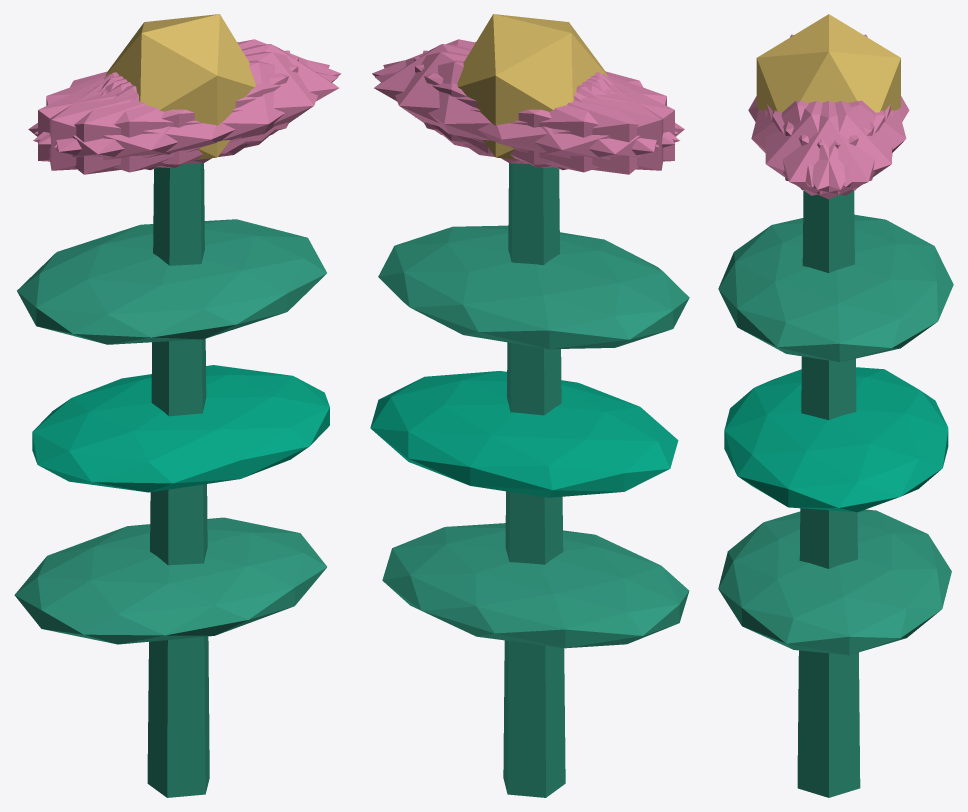
Rendered from tristellateia-australasiae.glb.
The picture shows the model from 3 angles, left to right: view 1: azimuth 30°, elevation 25°; view 2: azimuth 150°, elevation 25°; view 3: azimuth 270°, elevation 25°; orthographic projection.
Parts seen in each view (by area): view 1: leaf2, leaf0, leaf1, stem, center, petal1, petal6, petal2, petal5, petal7, petal0, petal4 (+2 smaller); view 2: leaf2, leaf1, leaf0, stem, center, petal8, petal3, petal7, petal4, petal2, petal0, petal5 (+2 smaller); view 3: leaf2, leaf1, leaf0, stem, center, petal0, petal5, petal4, petal1, petal8.
Boxes of the visible parts, left/top/right/bottom form: leaf2: left=17, top=219, right=326, bottom=344; leaf0: left=14, top=517, right=326, bottom=644; leaf1: left=32, top=365, right=329, bottom=492; stem: left=147, top=163, right=209, bottom=797; center: left=105, top=14, right=255, bottom=159; petal1: left=33, top=60, right=338, bottom=172; petal6: left=28, top=74, right=249, bottom=174; petal2: left=49, top=50, right=289, bottom=170; petal5: left=54, top=51, right=329, bottom=164; petal7: left=38, top=57, right=298, bottom=168; petal0: left=105, top=44, right=338, bottom=153; petal4: left=34, top=39, right=341, bottom=144; leaf2: left=378, top=225, right=689, bottom=349; leaf1: left=370, top=371, right=678, bottom=497; leaf0: left=382, top=523, right=689, bottom=648; stem: left=503, top=163, right=565, bottom=797; center: left=457, top=14, right=607, bottom=159; petal8: left=375, top=60, right=679, bottom=172; petal3: left=463, top=74, right=684, bottom=174; petal7: left=423, top=50, right=663, bottom=170; petal4: left=383, top=51, right=659, bottom=164; petal2: left=414, top=57, right=674, bottom=168; petal0: left=374, top=44, right=607, bottom=153; petal5: left=372, top=39, right=678, bottom=144; leaf2: left=718, top=215, right=953, bottom=362; leaf1: left=724, top=367, right=948, bottom=512; leaf0: left=718, top=509, right=951, bottom=655; stem: left=797, top=190, right=860, bottom=797; center: left=756, top=14, right=900, bottom=112; petal0: left=767, top=101, right=890, bottom=199; petal5: left=765, top=101, right=885, bottom=195; petal4: left=772, top=101, right=892, bottom=195; petal1: left=751, top=100, right=874, bottom=187; petal8: left=783, top=100, right=906, bottom=187.
Size of the model in its own units: 0.1452 by 0.3517 by 0.1.
